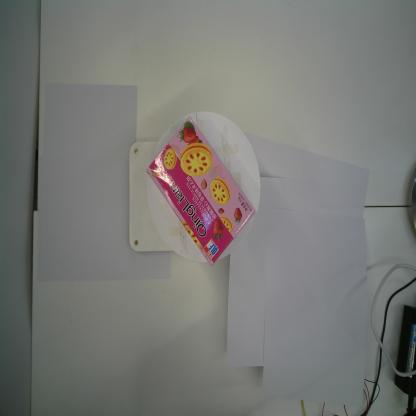Dessert: (146, 117, 255, 268)
